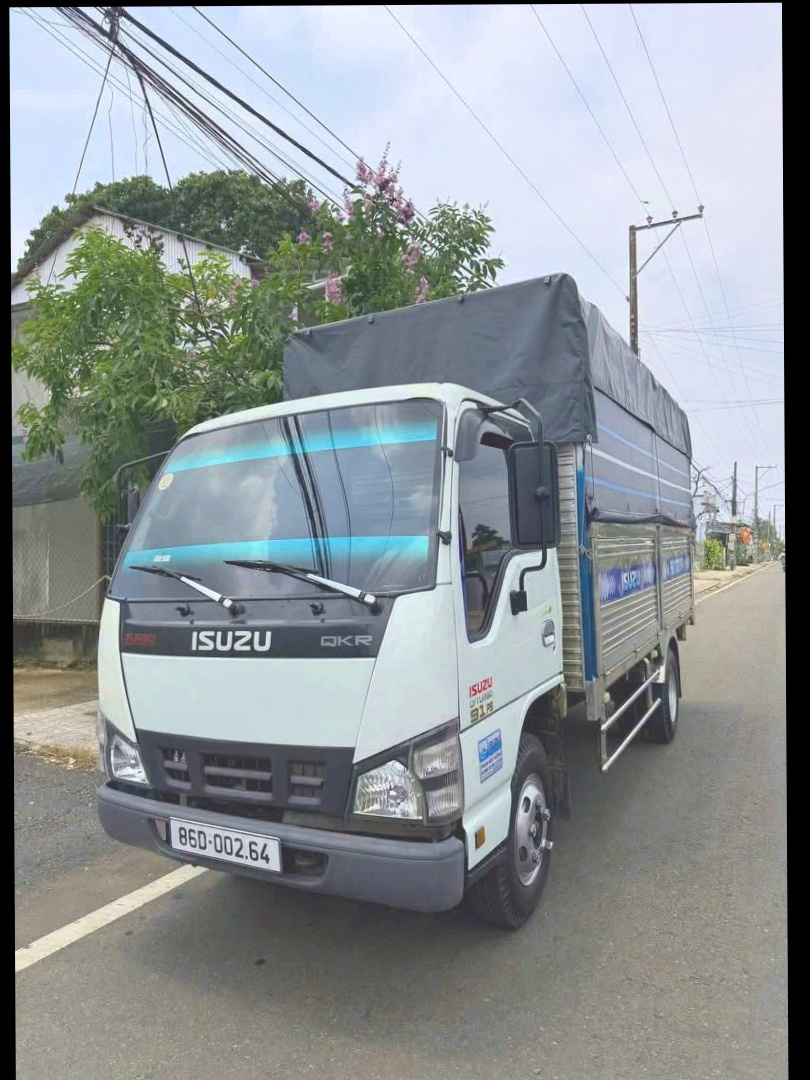Bien-so: (141, 783, 266, 851)
